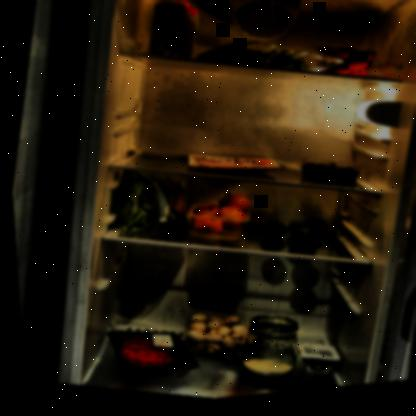beef: (93, 320, 200, 394)
blueberries: (292, 157, 363, 197)
green_beans: (188, 29, 323, 87)
lime: (253, 212, 328, 259)
mushrooms: (169, 307, 253, 364)
onion: (178, 187, 252, 250)
spinach: (101, 163, 198, 251)
strawberries: (309, 42, 377, 90)
